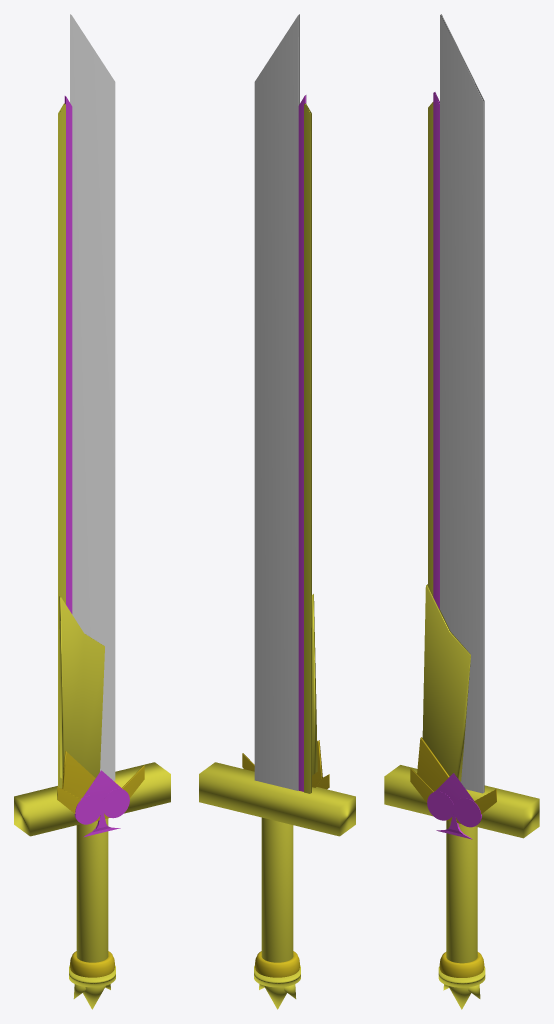
File: Sword_White_3.fbx
3 renders of one model, left to right at view 1: azimuth 30°, elevation 25°; view 2: azimuth 150°, elevation 25°; view 3: azimuth 330°, elevation 25°, orthographic.
Parts seen in each view (by area): view 1: Cube.016, Cube.013, Cylinder.008, Cube.015, Cube.017, Cube.021, Cube.014, Torus.002, Cube.018, Cylinder.011, Cylinder.010, Cube.020 (+1 smaller); view 2: Cube.016, Cube.017, Cube.015, Cylinder.008, Cube.021, Cube.013, Torus.002, Cylinder.009; view 3: Cube.016, Cube.013, Cylinder.008, Cube.017, Cube.021, Cube.015, Cube.014, Torus.002, Cube.018, Cylinder.011, Cylinder.010, Cube.020 (+1 smaller).
Part boxes in pixels (left/top/right/bottom): Cube.016: left=70, top=14, right=115, bottom=780; Cube.013: left=59, top=596, right=104, bottom=778; Cylinder.008: left=76, top=818, right=108, bottom=962; Cube.015: left=58, top=103, right=65, bottom=788; Cube.017: left=14, top=762, right=170, bottom=836; Cube.021: left=64, top=96, right=72, bottom=613; Cube.014: left=61, top=751, right=95, bottom=798; Torus.002: left=70, top=951, right=114, bottom=977; Cube.018: left=57, top=765, right=144, bottom=821; Cylinder.011: left=74, top=795, right=106, bottom=824; Cylinder.010: left=103, top=788, right=129, bottom=818; Cube.020: left=82, top=770, right=122, bottom=801; Cube.016: left=254, top=14, right=299, bottom=790; Cube.017: left=199, top=762, right=355, bottom=836; Cube.015: left=304, top=103, right=311, bottom=793; Cylinder.008: left=261, top=817, right=293, bottom=962; Cube.021: left=298, top=95, right=306, bottom=791; Cube.013: left=311, top=594, right=317, bottom=775; Torus.002: left=255, top=951, right=299, bottom=977; Cylinder.009: left=254, top=965, right=300, bottom=987; Cube.016: left=440, top=14, right=484, bottom=793; Cube.013: left=422, top=584, right=470, bottom=781; Cylinder.008: left=446, top=820, right=477, bottom=963; Cube.017: left=384, top=765, right=539, bottom=838; Cube.021: left=433, top=92, right=439, bottom=609; Cube.015: left=428, top=102, right=433, bottom=595; Cube.014: left=417, top=737, right=449, bottom=791; Torus.002: left=439, top=952, right=484, bottom=977; Cube.018: left=410, top=768, right=496, bottom=823; Cylinder.011: left=427, top=791, right=457, bottom=820; Cylinder.010: left=454, top=798, right=481, bottom=827; Cube.020: left=434, top=773, right=474, bottom=804.
Size of the model in its own units: 136 by 928 by 39.84.
